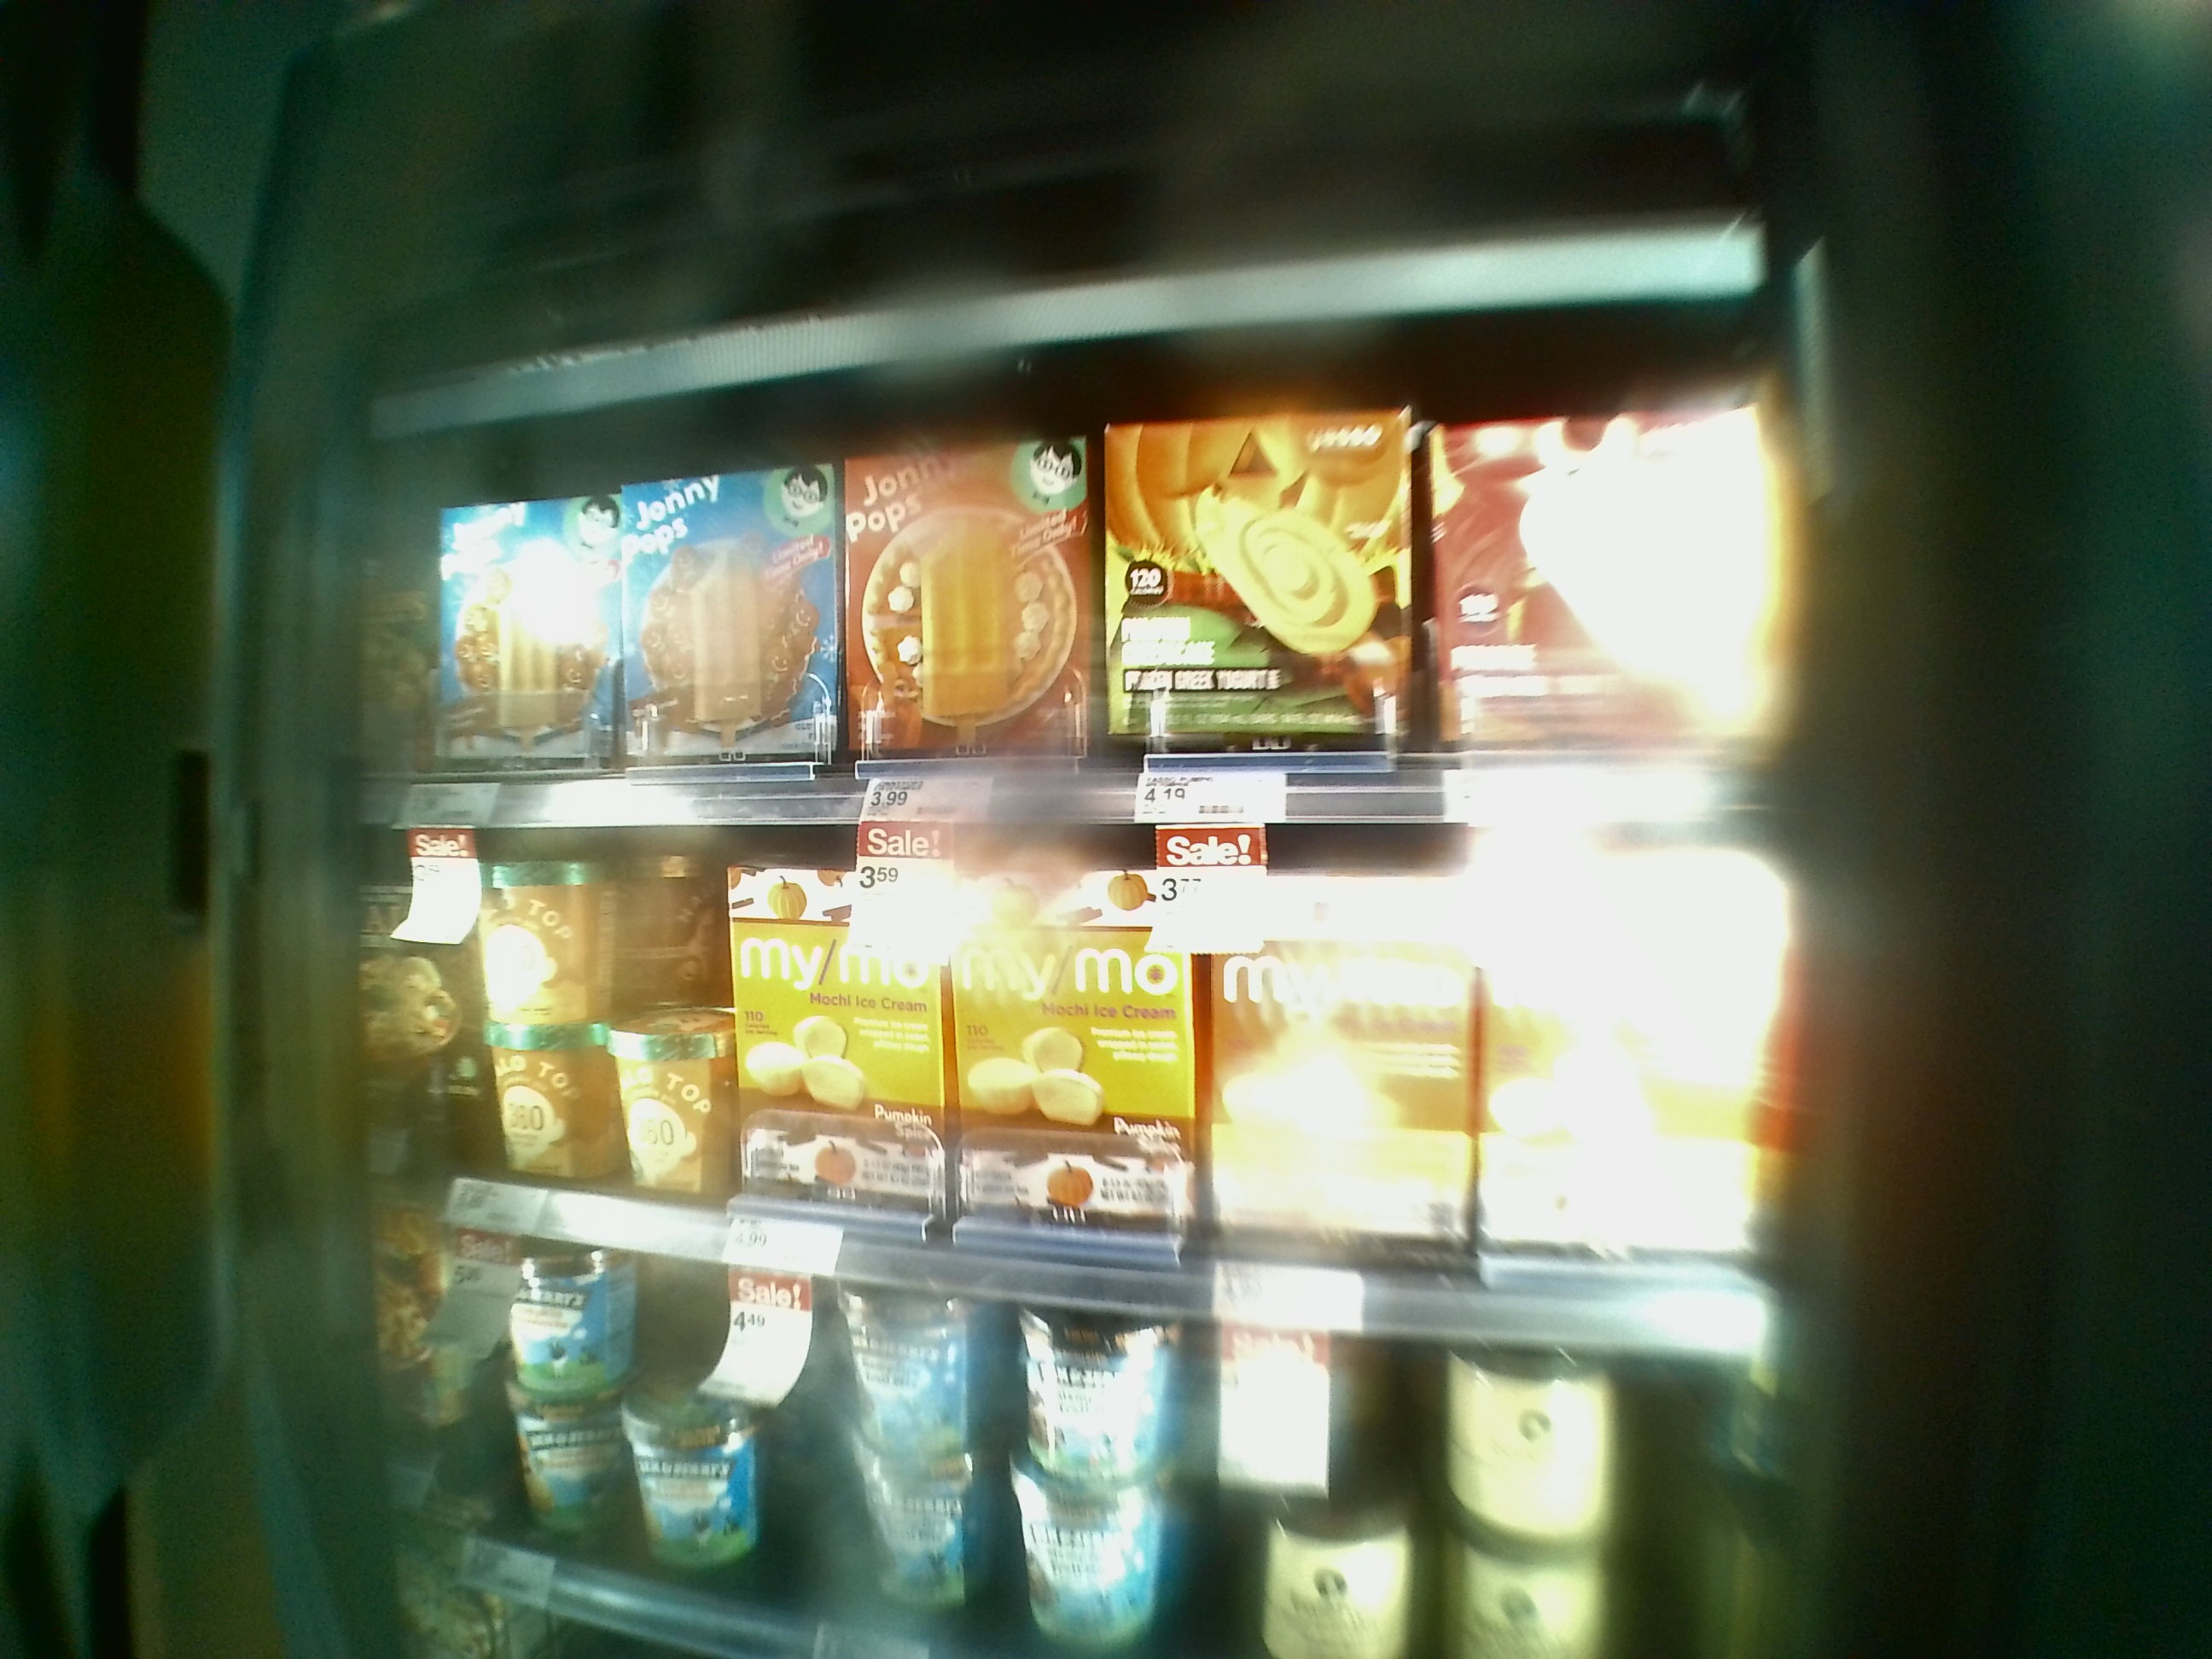shelf: (359, 774, 1817, 1352), (361, 362, 1810, 803)
